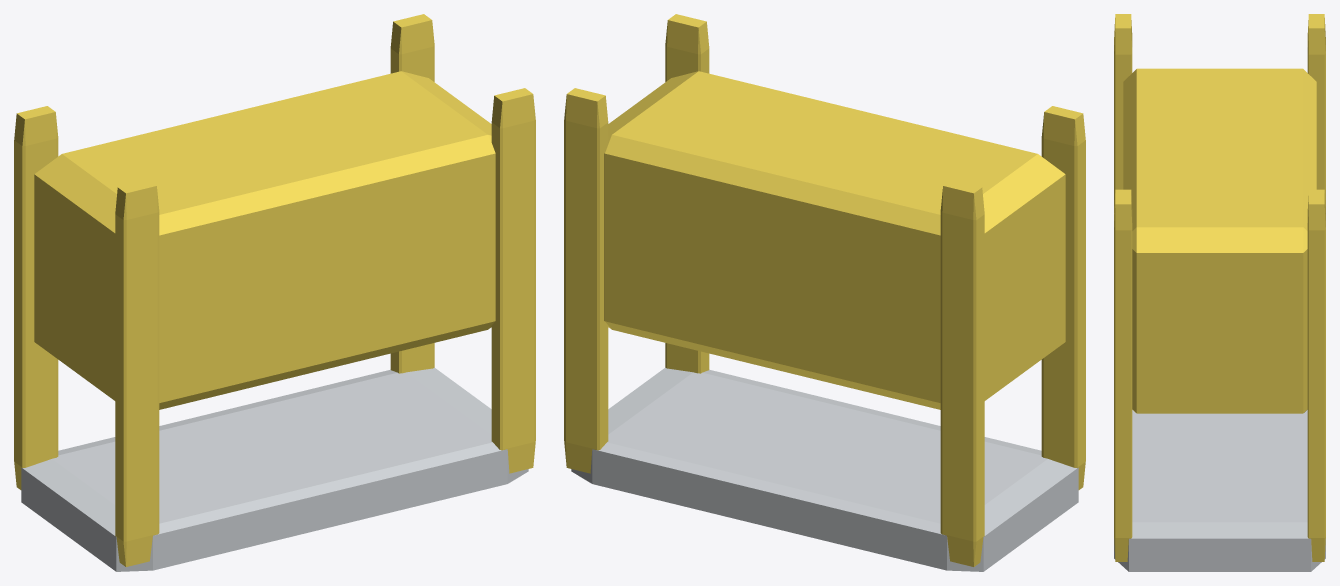
The model's file is b07_mason_frame_scaffold_bay.glb.
3 views of the same model, side by side, from view 1: azimuth 30°, elevation 25°; view 2: azimuth 150°, elevation 25°; view 3: azimuth 270°, elevation 25° (orthographic). The views are drawn at different scales.
Parts seen in each view (by area): view 1: b07_mason_frame_scaffold_bay; view 2: b07_mason_frame_scaffold_bay; view 3: b07_mason_frame_scaffold_bay.
Part boxes in pixels (bbox=[...]): b07_mason_frame_scaffold_bay: bbox=[14, 14, 535, 571]; b07_mason_frame_scaffold_bay: bbox=[564, 14, 1085, 571]; b07_mason_frame_scaffold_bay: bbox=[1114, 14, 1325, 571].
Size of the model in its own units: 3.29 by 2.94 by 1.53.
